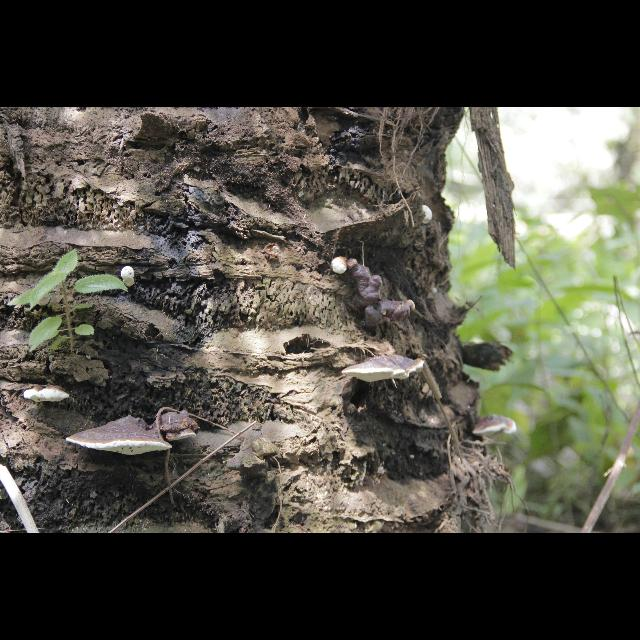ganoderma: (349, 259, 407, 332), (67, 418, 174, 457), (342, 354, 426, 384), (156, 412, 202, 442), (472, 415, 518, 439), (24, 386, 71, 404)
primordium: (121, 266, 137, 288), (332, 258, 349, 276), (423, 205, 434, 225), (408, 301, 416, 314)
